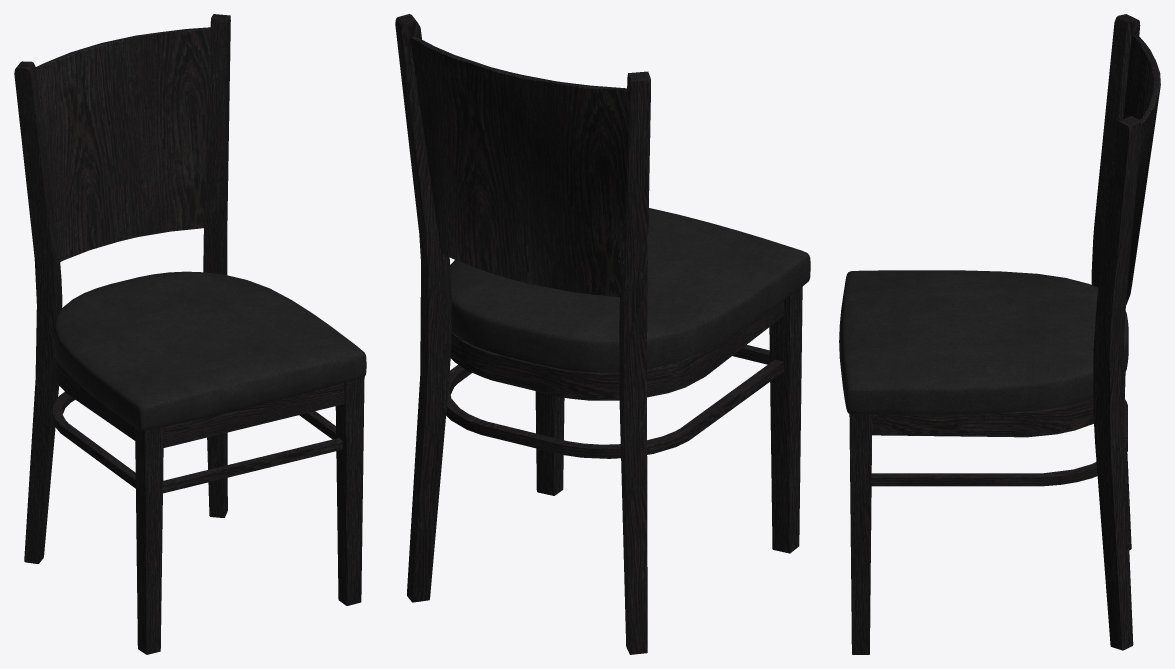
File: Chair.FBX
3 views of the same model, side by side, from view 1: azimuth 30°, elevation 25°; view 2: azimuth 150°, elevation 25°; view 3: azimuth 270°, elevation 25° (orthographic). The views are drawn at different scales.
Parts seen in each view (by area): view 1: Chair; view 2: Chair; view 3: Chair.
Part boxes in pixels (x1,y1,x2,y2): Chair: [14, 14, 366, 654]; Chair: [395, 14, 810, 654]; Chair: [839, 14, 1160, 654].
Size of the model in its own units: 414 by 855 by 471.
Materials: 2 (2 with a texture image).
